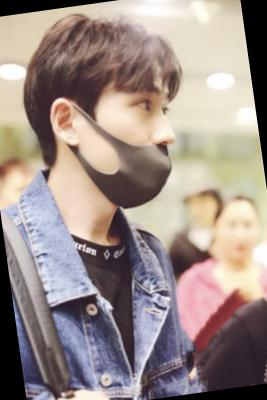mask_weared_incorrect: (71, 91, 184, 214)
